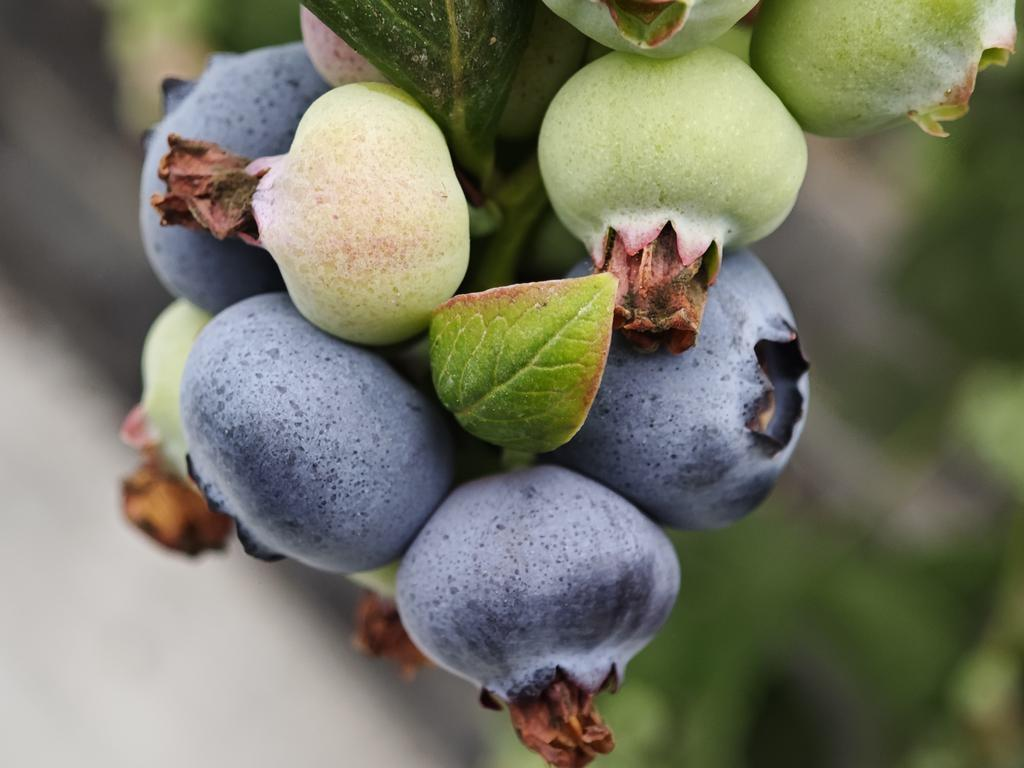RipeBlueBerry: (399, 458, 681, 711), (186, 301, 431, 571), (564, 273, 820, 531)
UnripeBlueBerry: (539, 48, 803, 261), (258, 78, 473, 329)
